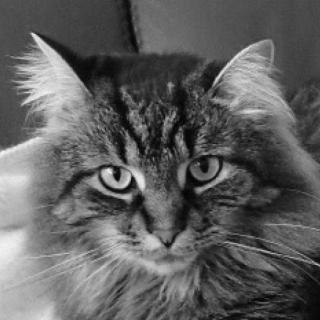cat: (24, 24, 289, 282)
nose: (140, 210, 196, 257)
